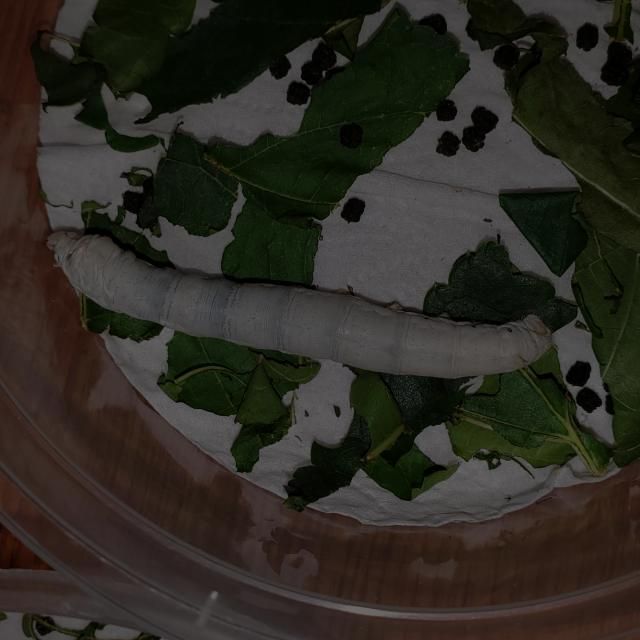Healthy: (36, 166, 566, 450)
